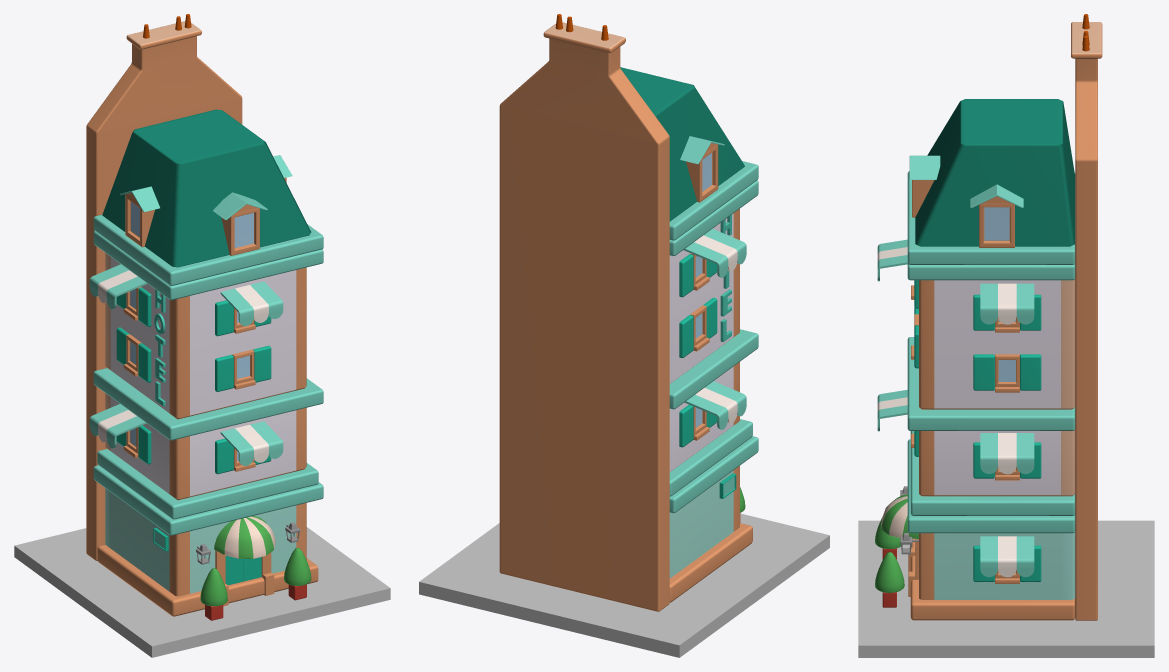
Rendered from hotel_house.fbx.
The picture shows the model from 3 angles, left to right: view 1: azimuth 30°, elevation 25°; view 2: azimuth 150°, elevation 25°; view 3: azimuth 270°, elevation 25°; orthographic projection. The views are drawn at different scales.
Parts seen in each view (by area): view 1: House, Nen; view 2: House, Nen; view 3: House, Nen.
Part boxes in pixels (<box>): House: <box>86,14,323,620</box>; Nen: <box>14,527,390,657</box>; House: <box>499,14,758,611</box>; Nen: <box>419,513,829,657</box>; House: <box>875,14,1102,620</box>; Nen: <box>858,520,1154,657</box>.
Bounding box in the file's own units: 1300 × 2765 × 1300.
